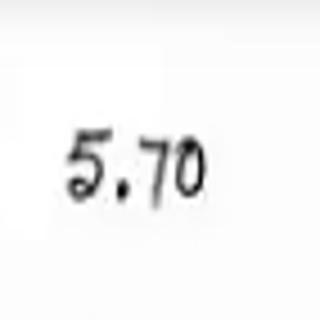.: (111, 175, 136, 201)
0: (173, 132, 205, 199)
5: (67, 125, 115, 196)
7: (138, 132, 168, 208)
